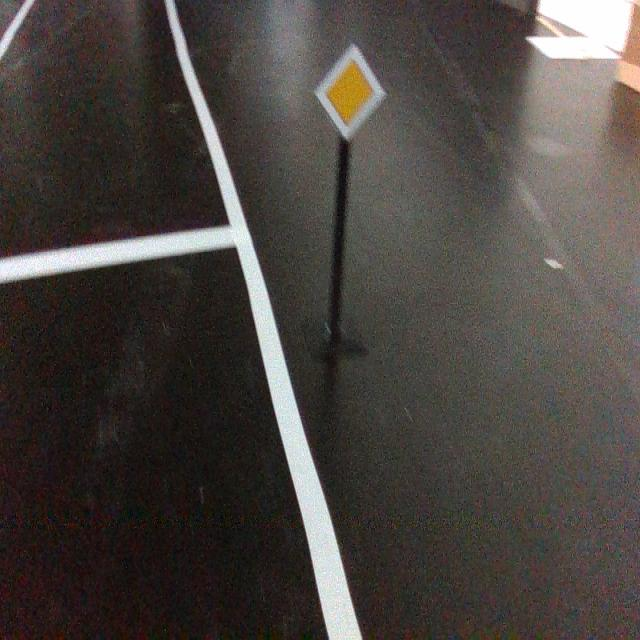priority-sign: (312, 41, 389, 146)
